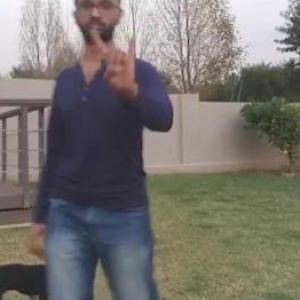takeoff-hand: (88, 18, 148, 94)
